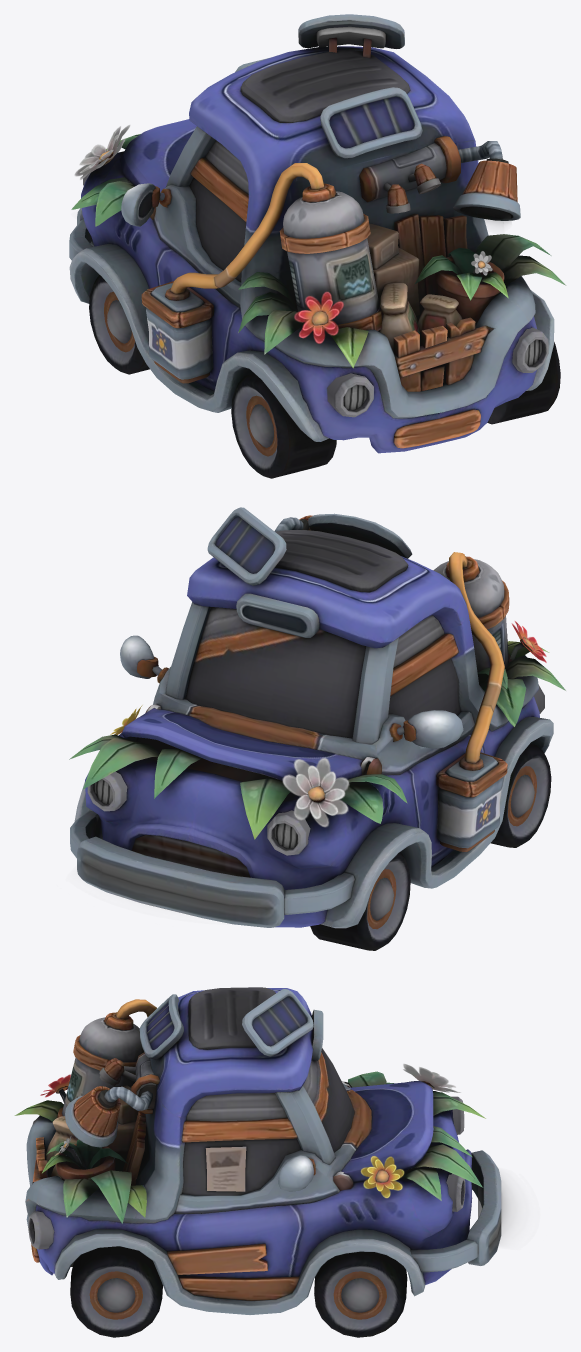
File: car-transformed.glb
3 renders of one model, top to bottom at view 1: azimuth 30°, elevation 25°; view 2: azimuth 150°, elevation 25°; view 3: azimuth 270°, elevation 25°, orthographic. The views are drawn at different scales.
Visible parts, largest first — view 1: defaultMaterial; view 2: defaultMaterial; view 3: defaultMaterial.
Boxes of the visible parts, x1,y1,x2,y2 form: defaultMaterial: [69, 14, 566, 478]; defaultMaterial: [69, 507, 565, 950]; defaultMaterial: [14, 987, 517, 1337].
Bounding box in the file's own units: 12.63 × 12.41 × 20.68.
1 material, 1 textured.
